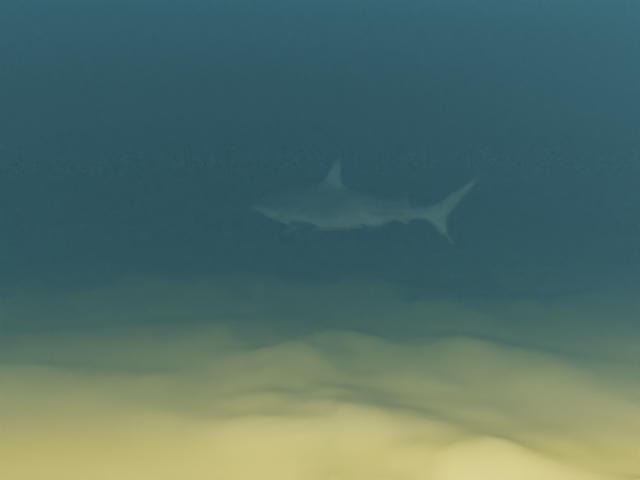Carribean Shark.001: (250, 156, 485, 244)
